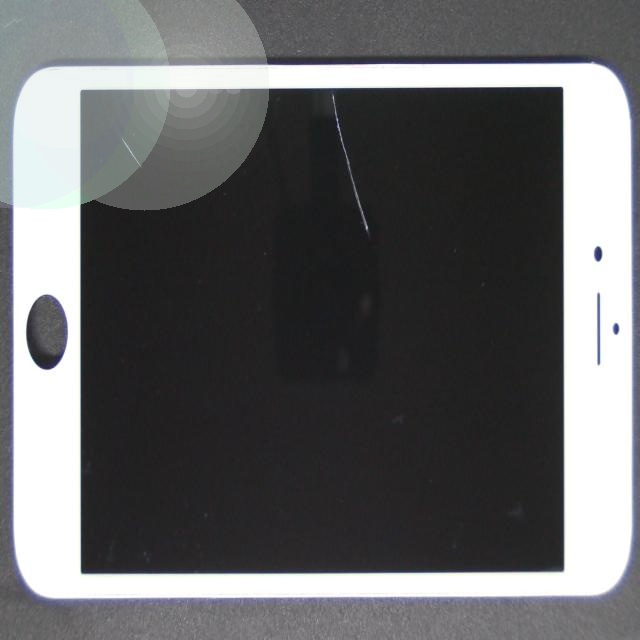scratch: (169, 161, 564, 372), (54, 16, 179, 198)
